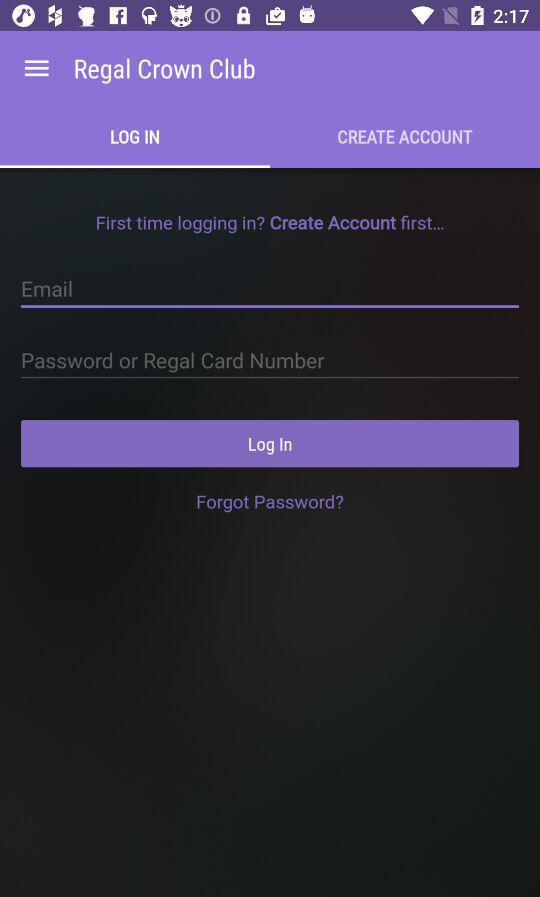EditText: (21, 282, 519, 309), (21, 353, 520, 379)
Icon: (26, 61, 50, 78)
Text: (98, 216, 444, 235), (23, 353, 325, 374), (75, 59, 255, 85), (197, 494, 343, 512), (338, 131, 472, 145), (22, 282, 73, 298), (112, 131, 161, 145)
TextButton: (22, 420, 519, 468)
UpperTaskBar: (1, 1, 540, 32)
